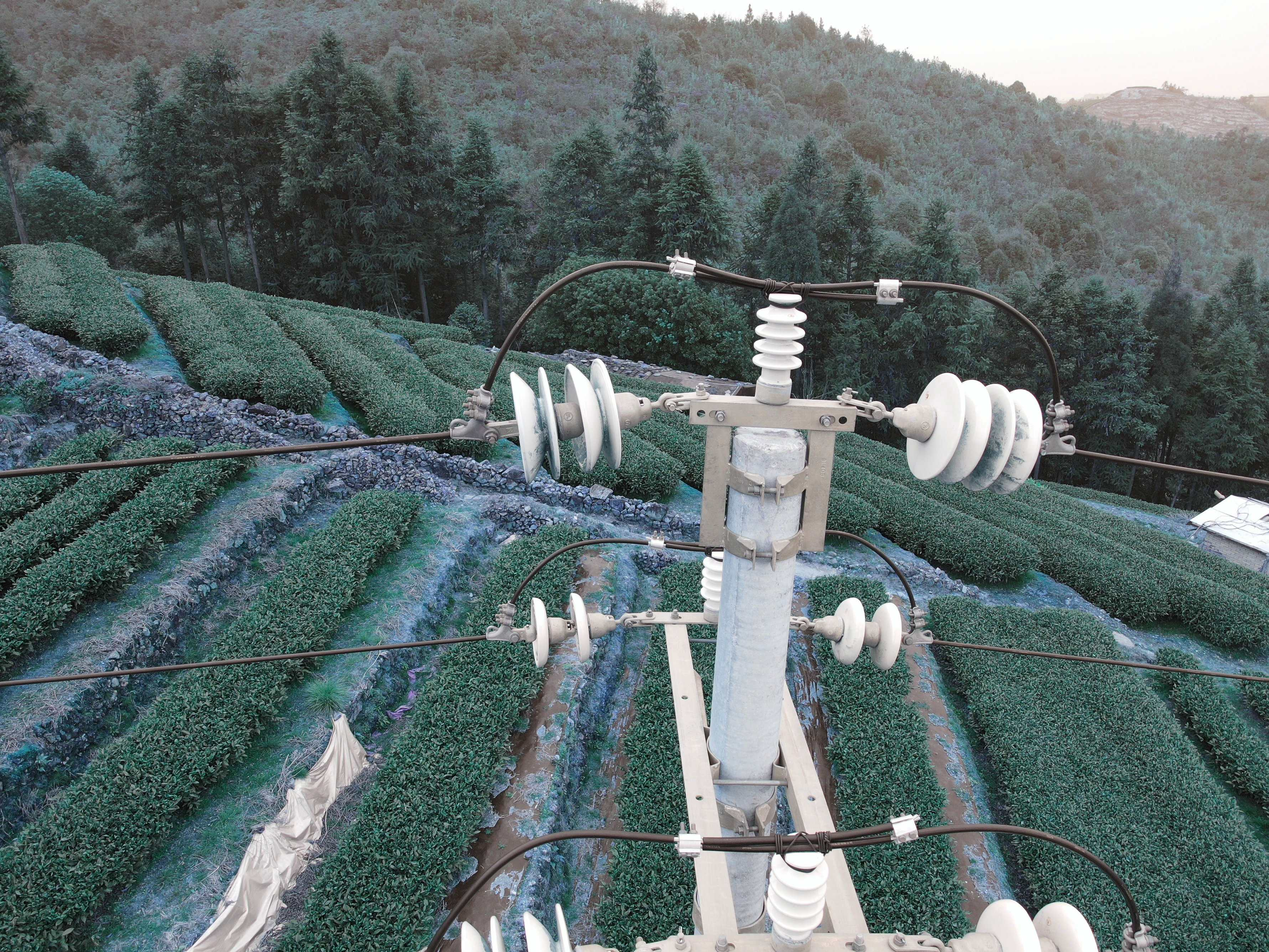severe_soiling_no_discharge_whole: (890, 370, 1046, 496), (508, 352, 654, 483)
